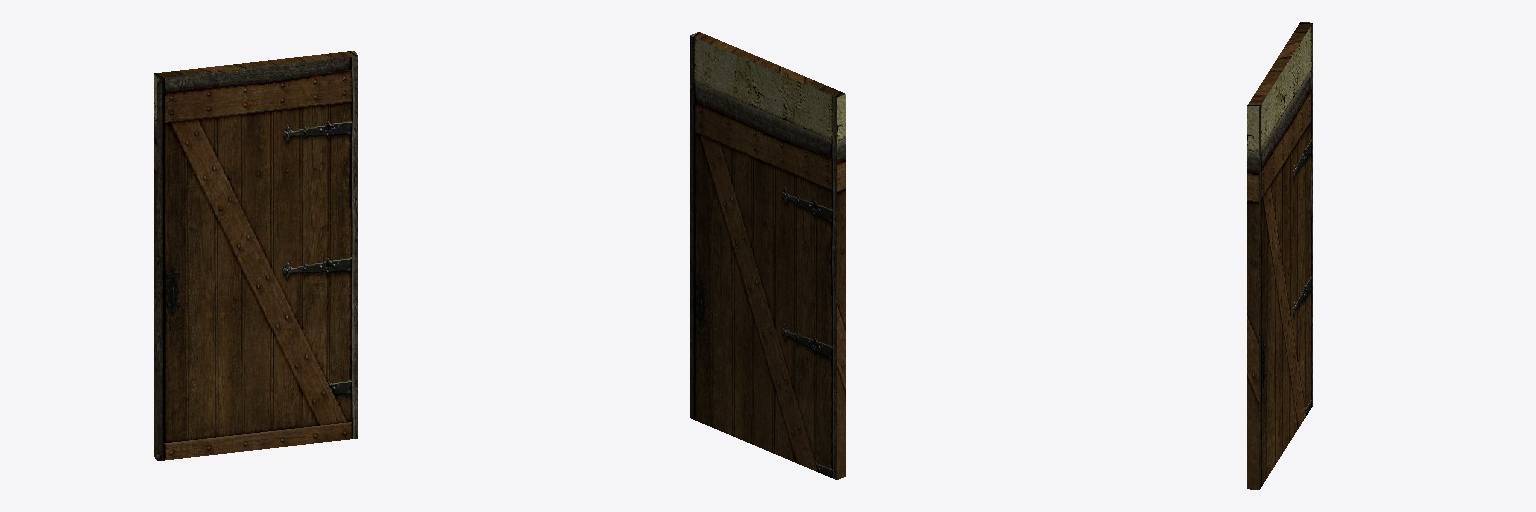
3 views of the same model, side by side, from view 1: azimuth 30°, elevation 25°; view 2: azimuth 150°, elevation 25°; view 3: azimuth 270°, elevation 25° (orthographic).
Visible parts, largest first — view 1: Object.1; view 2: Object.1; view 3: Object.1.
Part boxes in pixels (x1,y1,x2,y2): Object.1: (154,51,357,460); Object.1: (690,32,845,479); Object.1: (1247,22,1312,489).
Bounding box in the file's own units: 122 × 252 × 39.6.
3 materials, 1 textured.